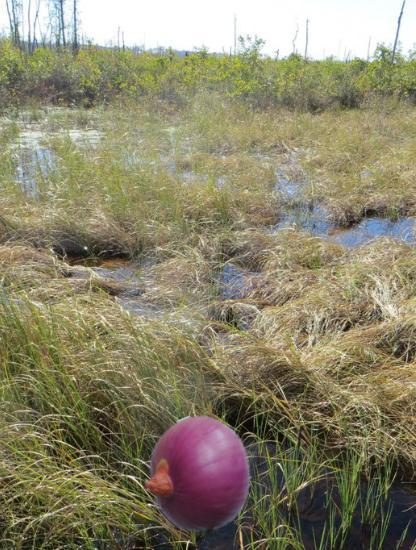Onion: (141, 416, 259, 534)
